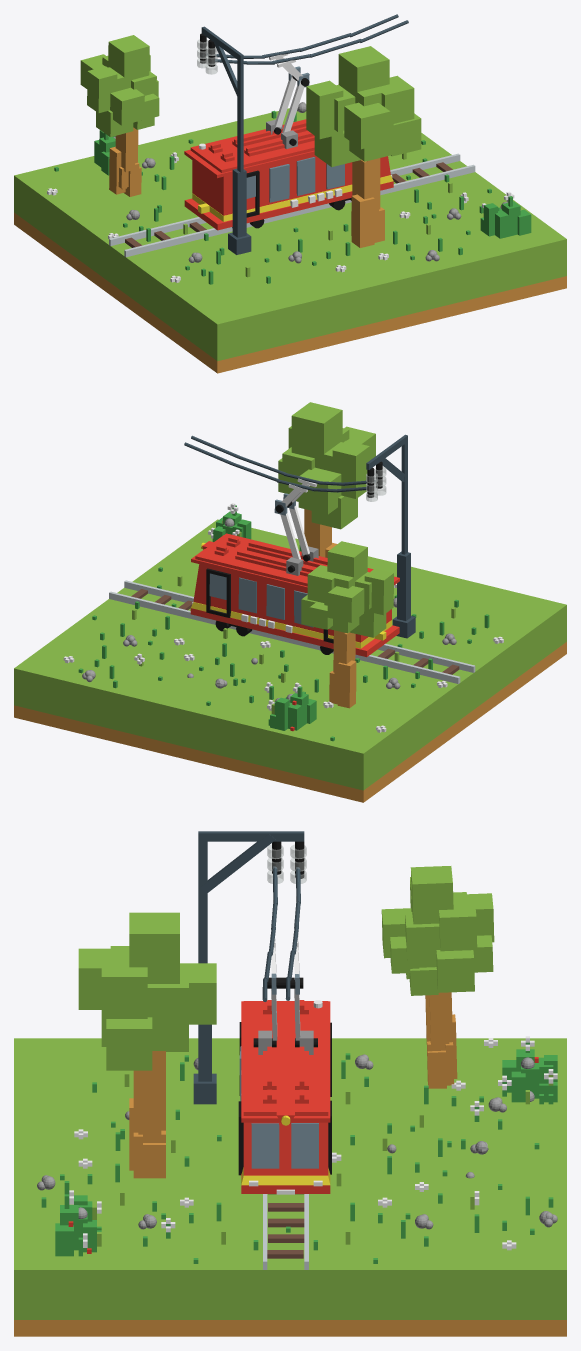
Rendered from 0ivy-FxYrz9.glb.
3 renders of one model, top to bottom at view 1: azimuth 30°, elevation 25°; view 2: azimuth 150°, elevation 25°; view 3: azimuth 270°, elevation 25°, orthographic. The views are drawn at different scales.
Visible parts, largest first — view 1: group1659443988, group859848011, group1957326067, group1399304385, group1598209273, group1781799543, group2120304632, group1910488722, group1906346708, group1304592991, group626039131, group578597175 (+12 smaller); view 2: group1659443988, group859848011, group1957326067, group1399304385, group1598209273, group1304592991, group2120304632, group950051442, group1906346708, group1781799543, group626039131, group1910488722 (+12 smaller); view 3: group1659443988, group859848011, group1957326067, group1399304385, group2120304632, group950051442, group1910488722, group1598209273, group1363831493, group1130888863, group2123000224, group1056245065 (+10 smaller).
Part boxes in pixels (x1,y1,x2,y2): group1659443988: [14, 108, 566, 361]; group859848011: [306, 46, 421, 247]; group1957326067: [80, 35, 159, 196]; group1399304385: [14, 212, 566, 373]; group1598209273: [192, 154, 390, 215]; group1781799543: [124, 164, 475, 257]; group2120304632: [190, 119, 314, 172]; group1910488722: [480, 191, 531, 238]; group1906346708: [184, 181, 393, 230]; group1304592991: [109, 153, 460, 245]; group626039131: [232, 168, 246, 237]; group578597175: [192, 175, 393, 221]; group1659443988: [14, 519, 566, 790]; group859848011: [278, 402, 375, 557]; group1957326067: [301, 541, 393, 708]; group1399304385: [14, 642, 566, 802]; group1598209273: [193, 564, 391, 642]; group1304592991: [109, 591, 460, 683]; group2120304632: [195, 533, 373, 586]; group950051442: [268, 682, 316, 730]; group1906346708: [190, 608, 399, 657]; group1781799543: [124, 580, 475, 672]; group626039131: [397, 551, 410, 620]; group1910488722: [208, 503, 251, 541]; group1659443988: [14, 1038, 566, 1319]; group859848011: [78, 912, 216, 1178]; group1957326067: [381, 866, 494, 1088]; group1399304385: [14, 1320, 566, 1336]; group2120304632: [243, 1001, 328, 1115]; group950051442: [498, 1036, 557, 1104]; group1910488722: [55, 1190, 101, 1256]; group1598209273: [243, 1122, 328, 1175]; group1363831493: [251, 1123, 279, 1168]; group1130888863: [291, 1123, 318, 1168]; group2123000224: [241, 1001, 330, 1122]; group1056245065: [198, 841, 207, 963].
Size of the model in its own units: 1.19 by 0.8 by 1.2.
